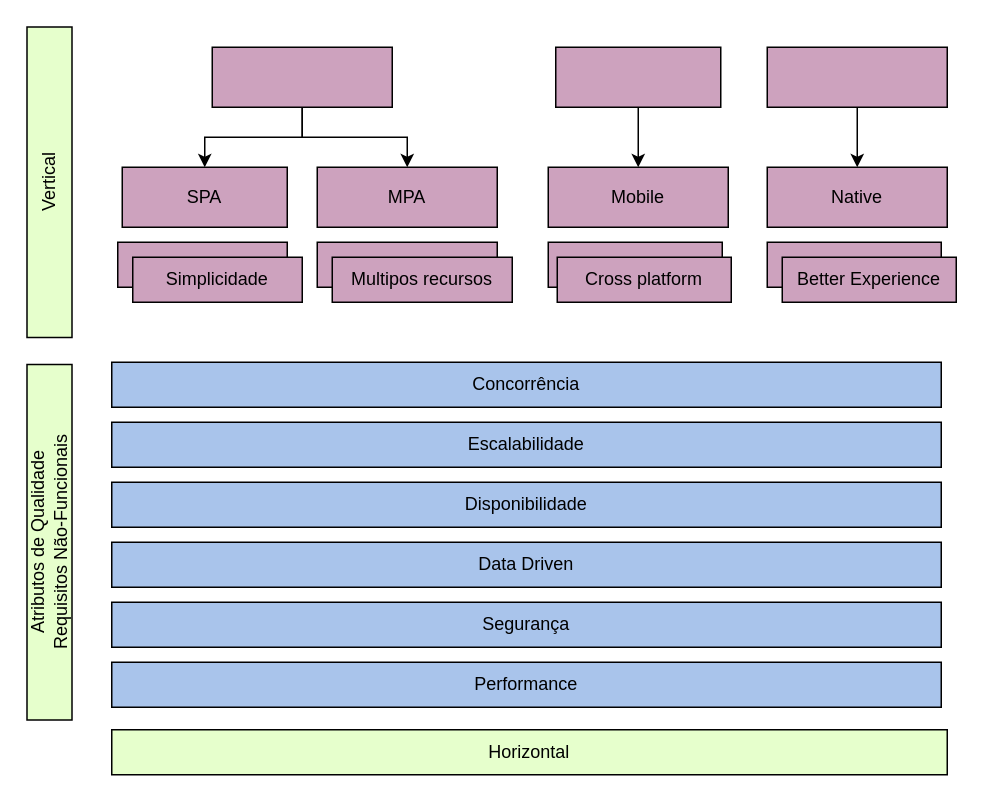
Image size: 983x801. Some labels were removed from this diagram. Each missing label, with the box of its shape:
Mobile Android & iOS: (766, 46, 947, 107)
PWA: (554, 46, 721, 107)
WebApps: (211, 46, 392, 107)
